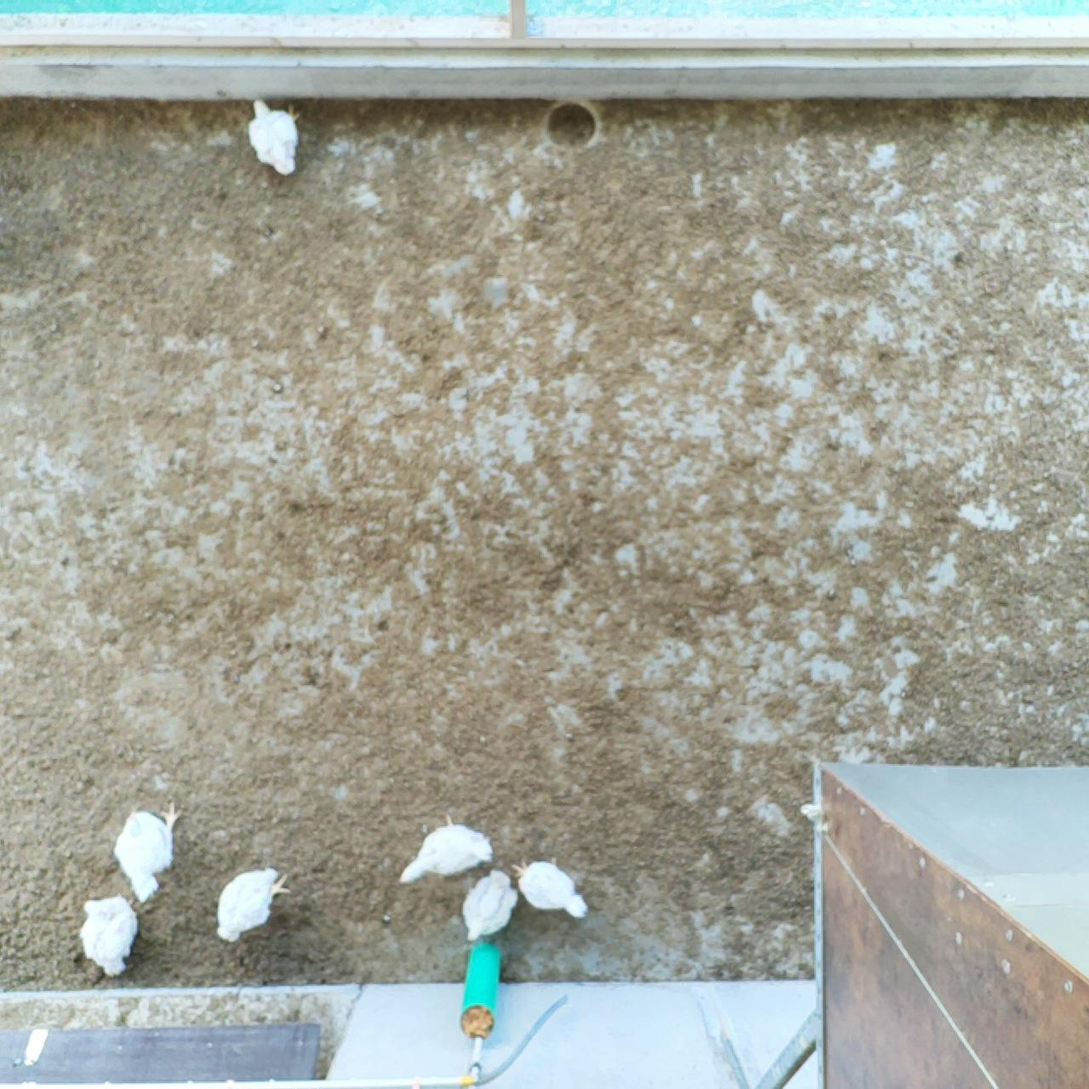chicken: (395, 809, 495, 888), (111, 801, 180, 903), (213, 861, 292, 948), (78, 893, 140, 981), (508, 854, 589, 921), (244, 92, 304, 177), (460, 867, 517, 944)
